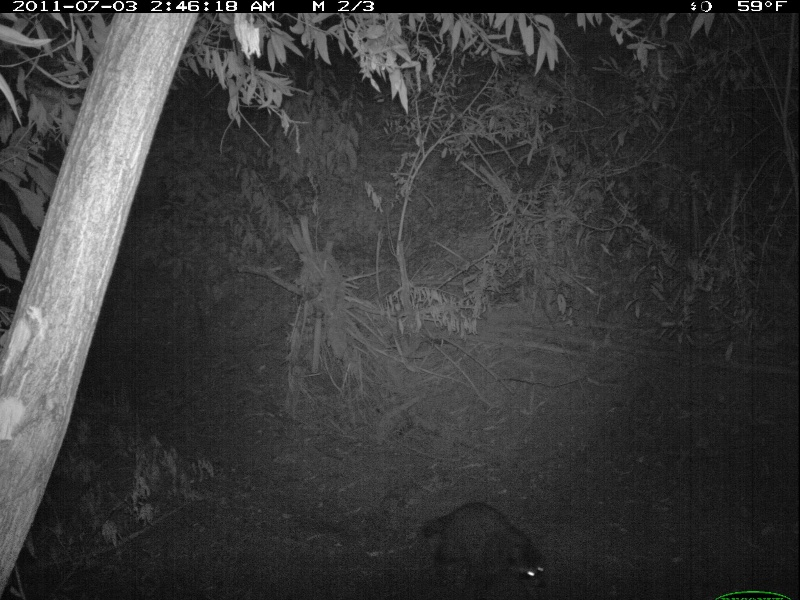raccoon: (414, 504, 552, 592)
